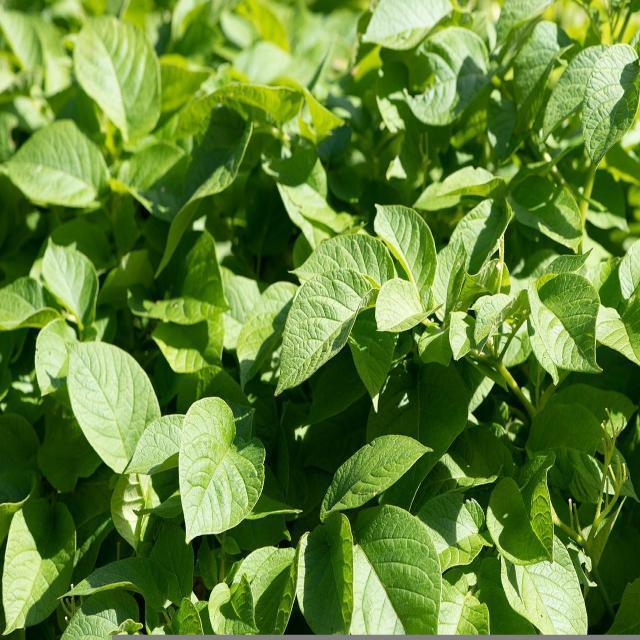Healthy Leaf: (178, 388, 264, 548), (273, 261, 371, 400), (59, 332, 153, 461), (0, 114, 110, 212), (2, 494, 75, 639), (322, 428, 424, 526), (481, 450, 562, 562), (523, 275, 609, 369), (584, 29, 640, 172), (374, 194, 439, 310), (299, 522, 355, 635), (41, 238, 103, 334), (209, 578, 261, 636)
